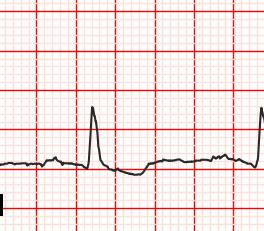T inversion: (113, 160, 157, 179)
